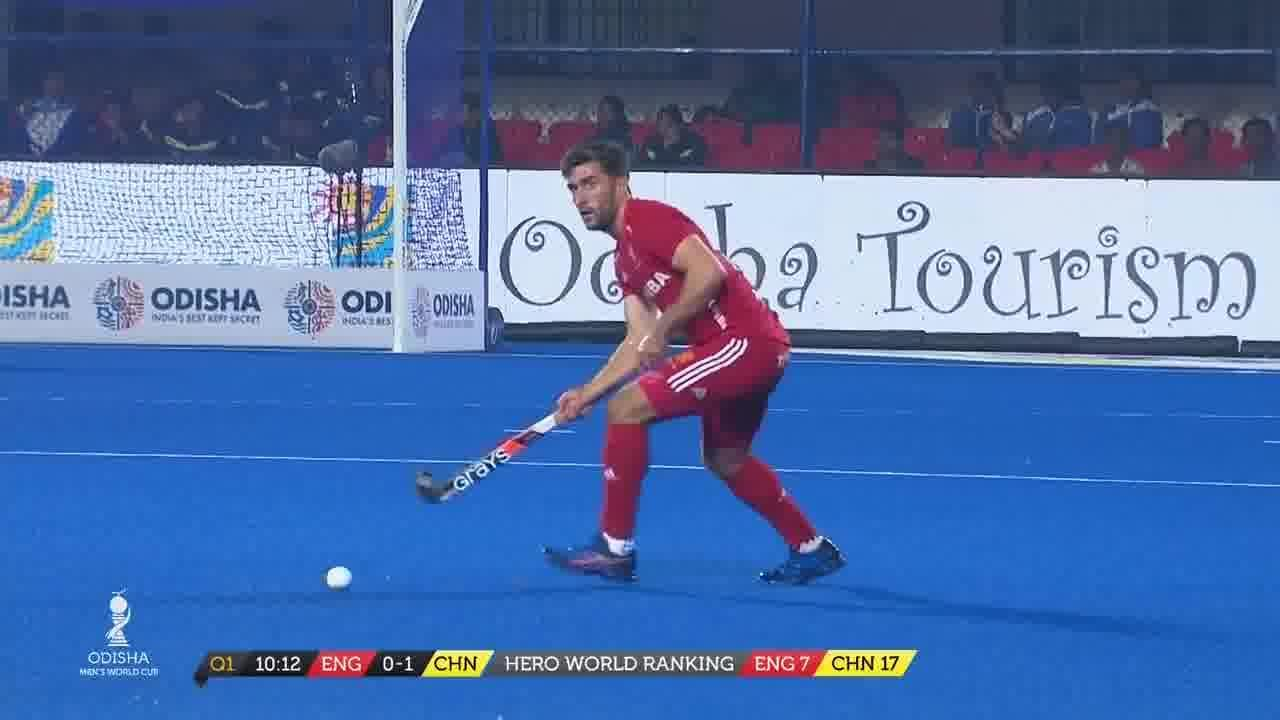ball: (321, 557, 361, 597)
